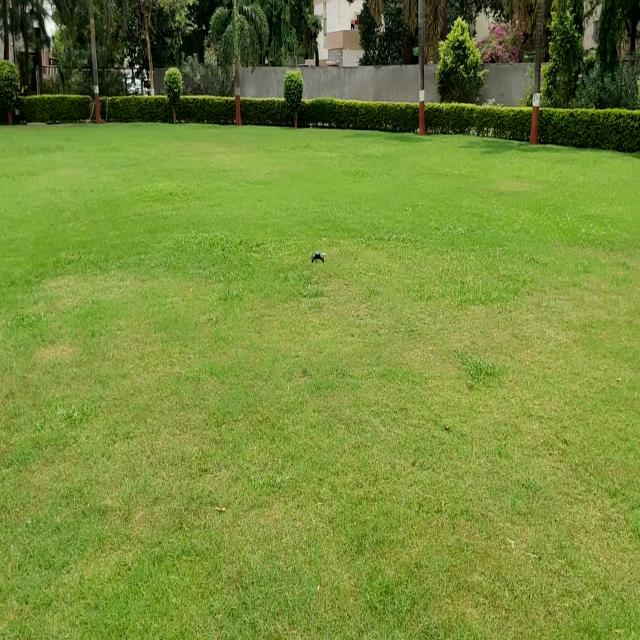drone: (304, 240, 337, 271)
